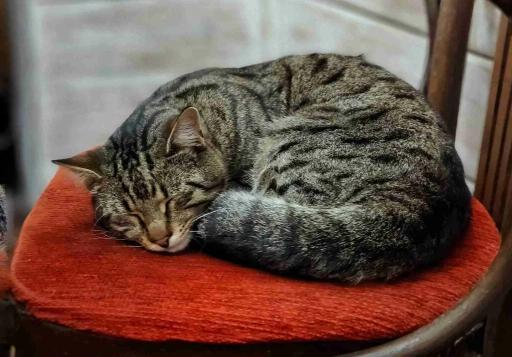cat_sleeping: (54, 54, 472, 282)
